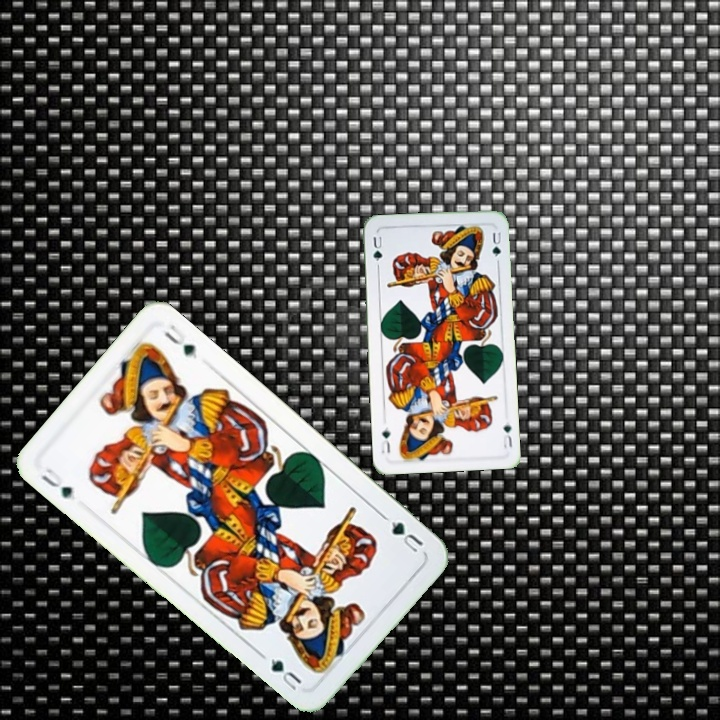GU: (37, 464, 78, 503), (386, 516, 426, 555), (499, 418, 515, 451), (369, 232, 385, 264)
